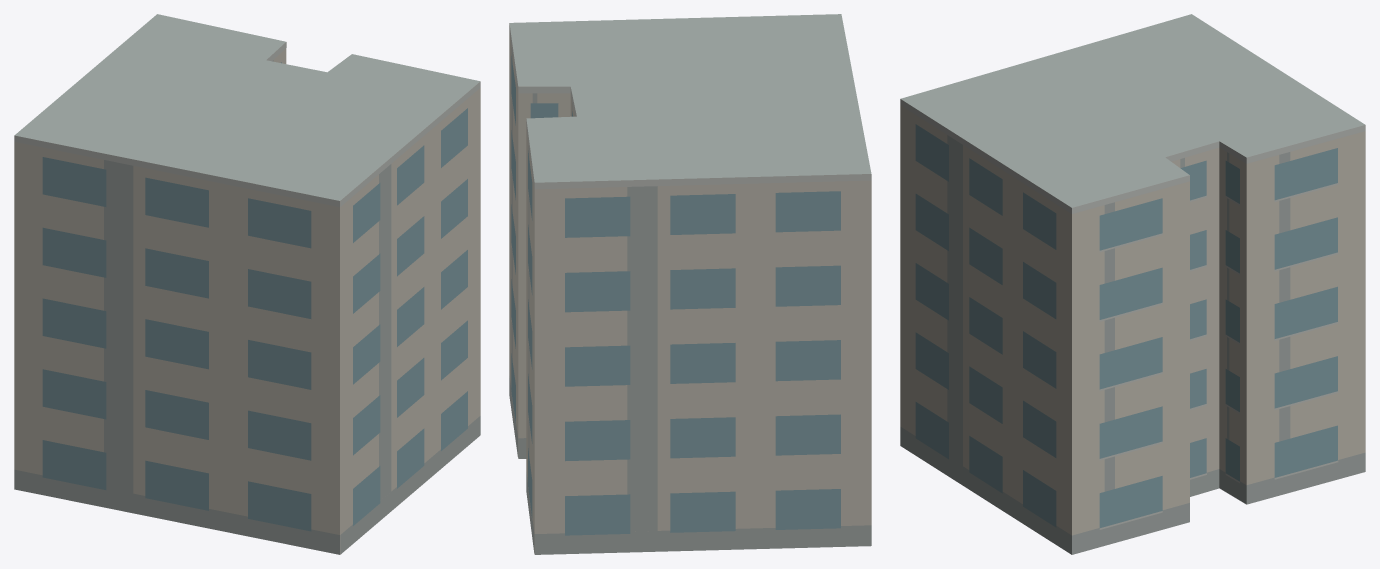
File: survey-upis-32886890.glb
3 renders of one model, left to right at view 1: azimuth 30°, elevation 25°; view 2: azimuth 150°, elevation 25°; view 3: azimuth 270°, elevation 25°, orthographic. The views are drawn at different scales.
Visible parts, largest first — view 1: survey-upis-32886890.tmp; view 2: survey-upis-32886890.tmp; view 3: survey-upis-32886890.tmp.
Boxes of the visible parts, <box> form: survey-upis-32886890.tmp: <box>14,14,480,554</box>; survey-upis-32886890.tmp: <box>509,14,871,554</box>; survey-upis-32886890.tmp: <box>900,14,1365,554</box>.
Size of the model in its own units: 16.37 by 13.65 by 16.6.
